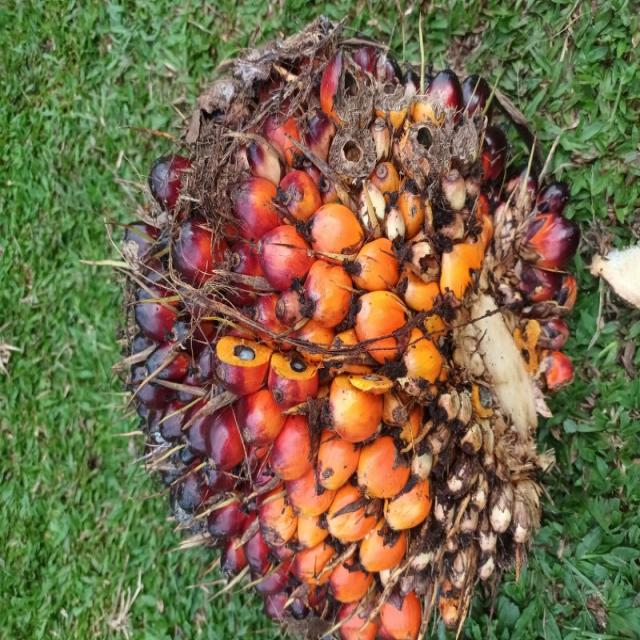fraksi 1: (0, 113, 477, 640)
